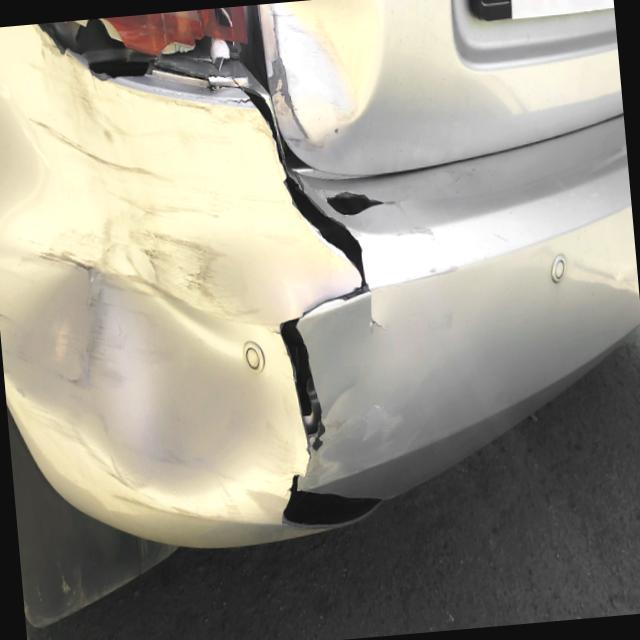Cabossage: (1, 239, 258, 544)
Dechirure: (235, 60, 414, 533)
Phare abime: (0, 5, 259, 95)
Rayure: (0, 282, 258, 567), (12, 45, 247, 340)
